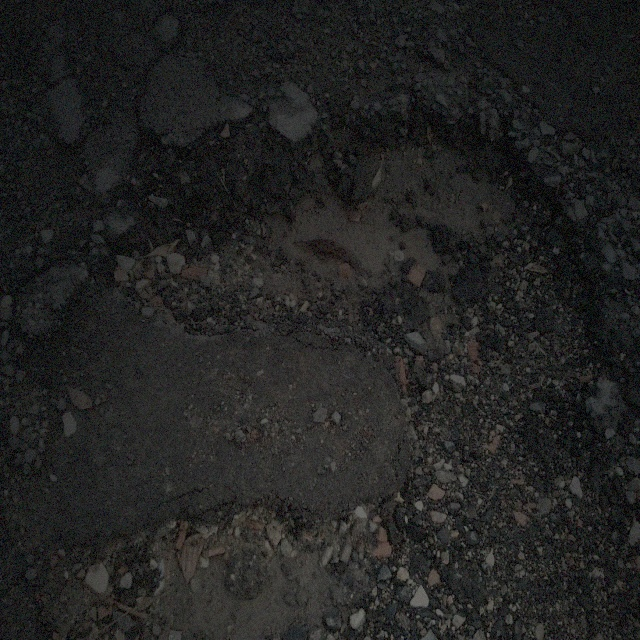pothole: (113, 108, 601, 472)
